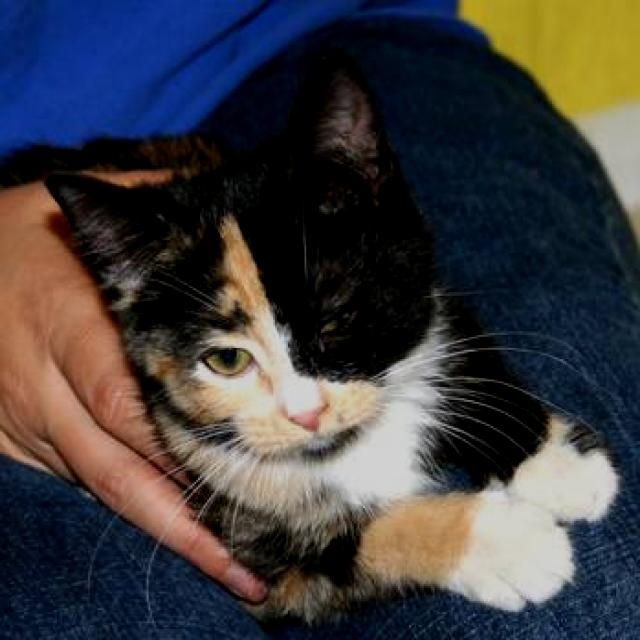Kucing: (34, 26, 556, 605)
